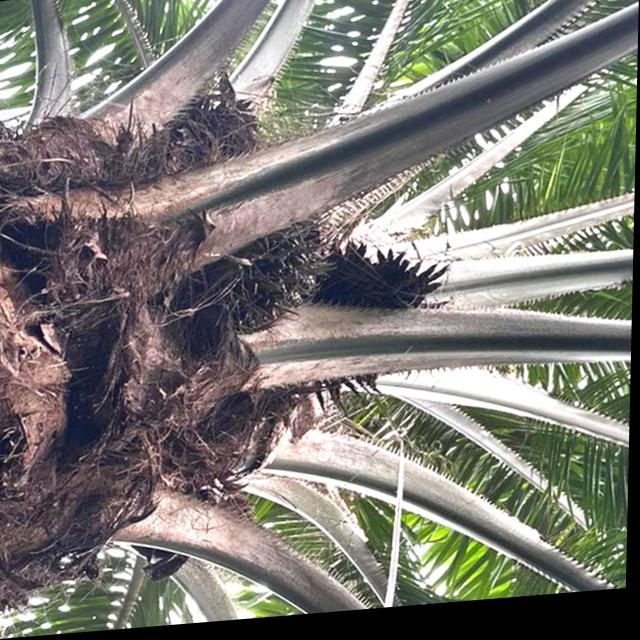unripe: (199, 203, 342, 346)
